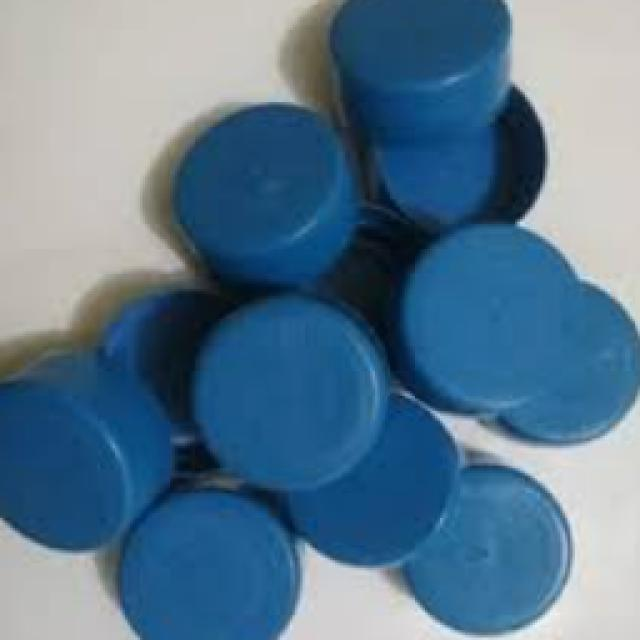TutupGalon: (0, 0, 638, 638)
